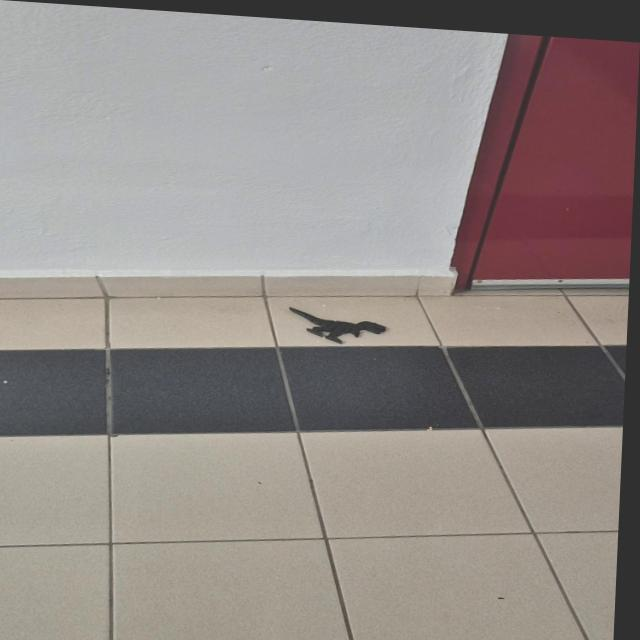dino: (287, 307, 388, 347)
